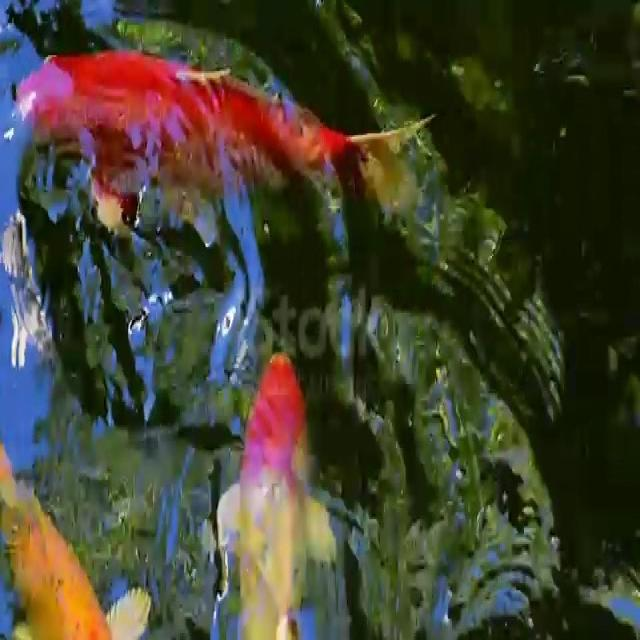fish: (0, 41, 441, 274), (216, 320, 327, 640), (0, 423, 150, 640)
